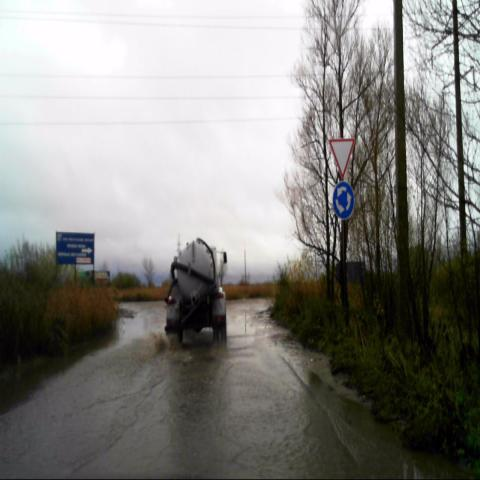4_3: (332, 182, 354, 220)
